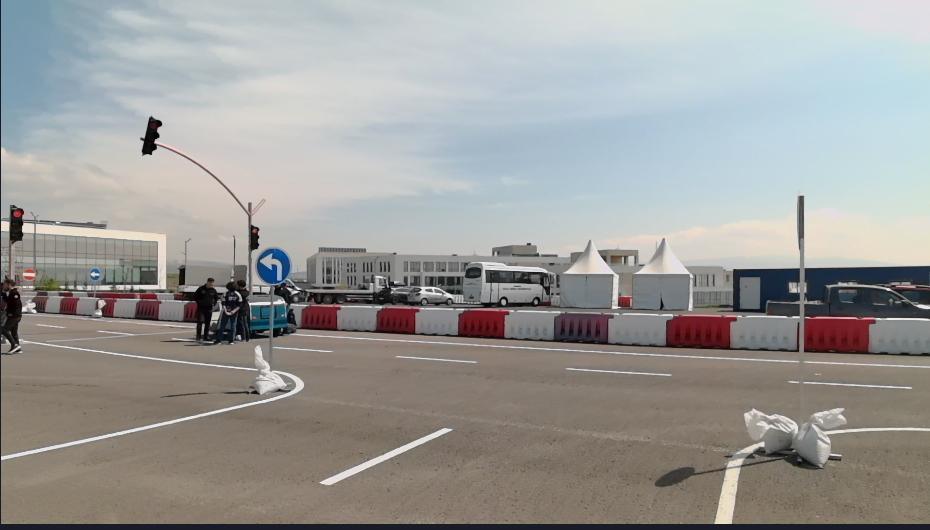nesne: (0, 321, 929, 525), (236, 364, 925, 529), (0, 342, 576, 525), (289, 301, 928, 355), (0, 369, 305, 461), (284, 332, 905, 368), (317, 427, 453, 486), (26, 340, 256, 370), (764, 286, 929, 320), (462, 260, 554, 308), (713, 440, 763, 522), (792, 405, 848, 467), (805, 317, 875, 355), (728, 313, 797, 351), (743, 408, 793, 456), (605, 312, 675, 346), (665, 313, 735, 347), (306, 276, 391, 302), (868, 318, 929, 354), (553, 310, 613, 343), (502, 307, 560, 341), (251, 345, 287, 395), (190, 278, 218, 340), (1, 277, 23, 353), (413, 307, 463, 337), (214, 290, 241, 344), (457, 309, 508, 337), (787, 379, 911, 390), (336, 304, 382, 331), (256, 246, 289, 283), (564, 365, 671, 376), (376, 305, 417, 333), (406, 284, 454, 306), (302, 303, 342, 329), (235, 276, 249, 340), (823, 426, 928, 434), (395, 354, 478, 363), (141, 115, 160, 154), (158, 298, 189, 320), (134, 299, 163, 321), (7, 205, 23, 242), (111, 297, 137, 317), (382, 283, 408, 302), (288, 303, 308, 326), (76, 297, 100, 315), (59, 295, 78, 314), (273, 346, 331, 352), (97, 297, 115, 316), (42, 294, 63, 310), (30, 293, 49, 310), (250, 226, 259, 250), (23, 265, 36, 279), (224, 280, 237, 294), (8, 242, 13, 278), (88, 267, 100, 282), (433, 398, 434, 399)
